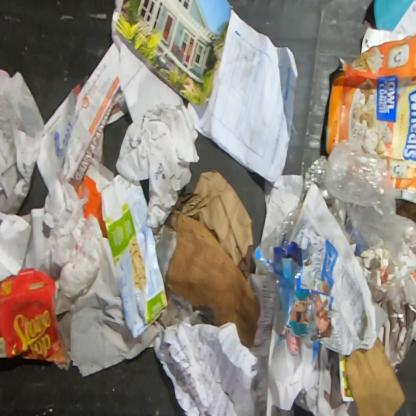cardboard: (324, 35, 416, 205), (165, 212, 260, 348), (254, 234, 334, 341), (0, 269, 71, 364), (345, 335, 407, 415)
rigid_plastic: (258, 155, 347, 261)
soft_plastic: (323, 141, 415, 264)
